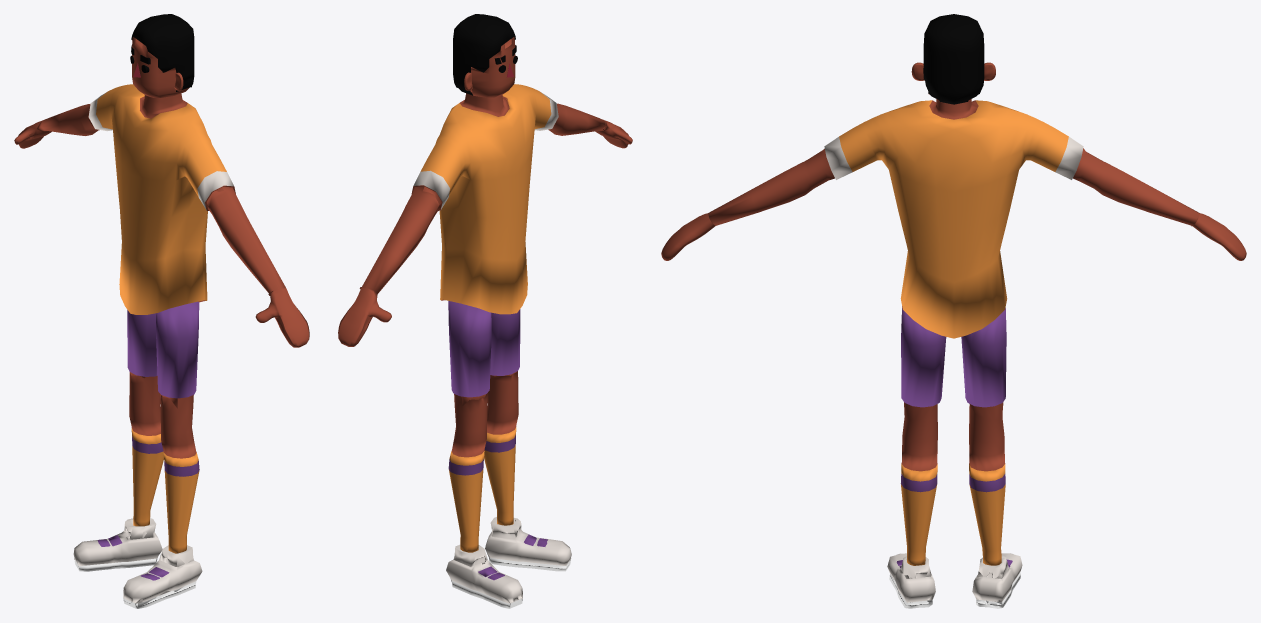
Rendered from Erickson.fbx.
The picture shows the model from 3 angles, left to right: view 1: azimuth 30°, elevation 25°; view 2: azimuth 150°, elevation 25°; view 3: azimuth 270°, elevation 25°; orthographic projection. The views are drawn at different scales.
Visible parts, largest first — view 1: Plane.002; view 2: Plane.002; view 3: Plane.002.
Part boxes in pixels (x1,y1,x2,y2): Plane.002: (14, 14, 309, 608); Plane.002: (338, 14, 632, 608); Plane.002: (661, 14, 1246, 608).
Bounding box in the file's own units: 39.03 × 216 × 196.
